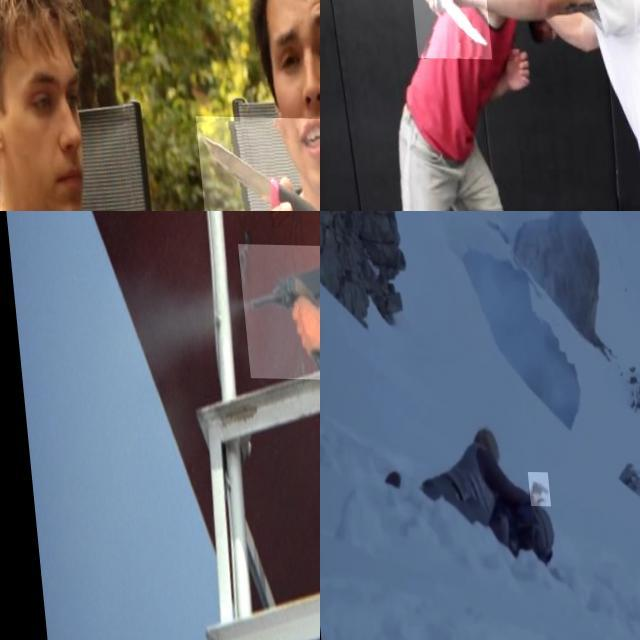-: (191, 114, 320, 211), (406, 0, 487, 58)
gun-knife-thesis - v11 Yolov5 augmented: (233, 243, 320, 378), (522, 470, 544, 506)
